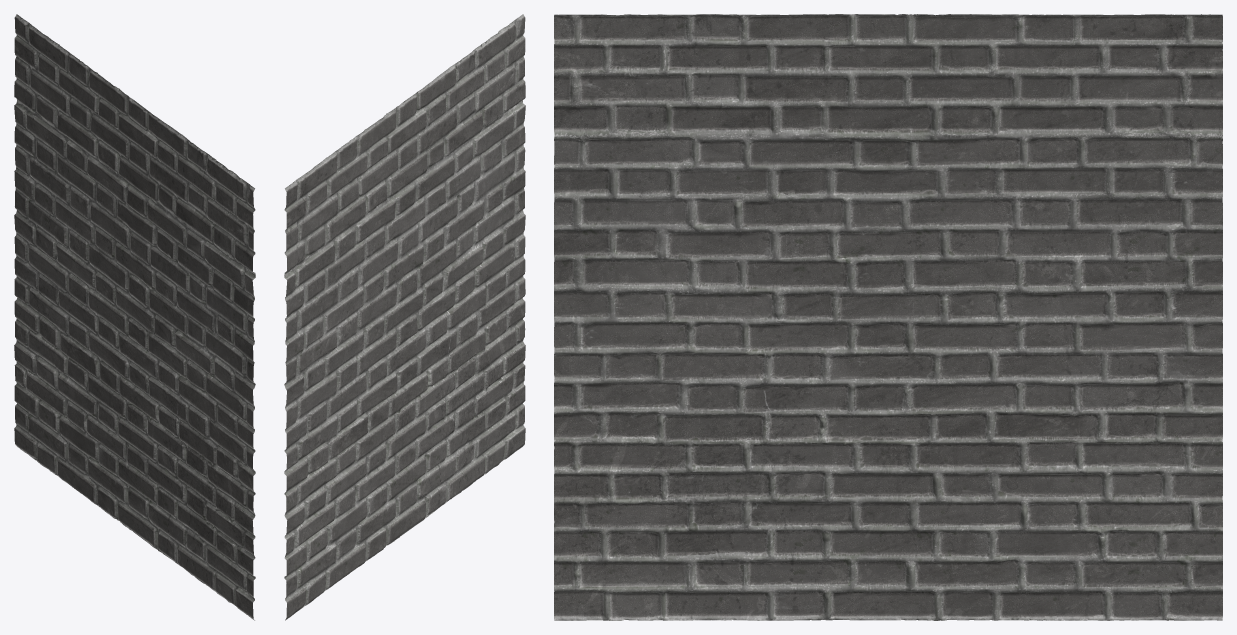
The model's file is SM_Sewer_Wall_Brick_01a.fbx.
3 renders of one model, left to right at view 1: azimuth 30°, elevation 25°; view 2: azimuth 150°, elevation 25°; view 3: azimuth 270°, elevation 25°, orthographic. The views are drawn at different scales.
Visible parts, largest first — view 1: SM_Sewer_Wall_Brick_01a_LOD0; view 2: SM_Sewer_Wall_Brick_01a_LOD0; view 3: SM_Sewer_Wall_Brick_01a_LOD0.
Part boxes in pixels (x1,y1,x2,y2): SM_Sewer_Wall_Brick_01a_LOD0: (14,14,255,620); SM_Sewer_Wall_Brick_01a_LOD0: (284,14,525,620); SM_Sewer_Wall_Brick_01a_LOD0: (554,14,1222,620).
Size of the model in its own units: 2.92 by 200 by 200.
